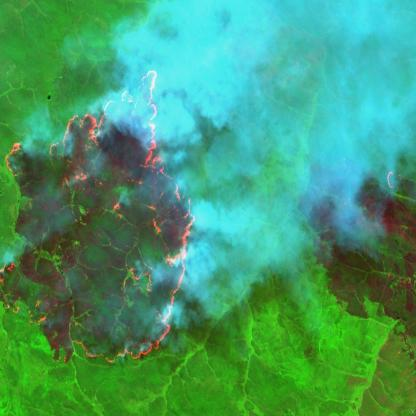fire: (0, 59, 203, 376), (377, 156, 405, 196)
